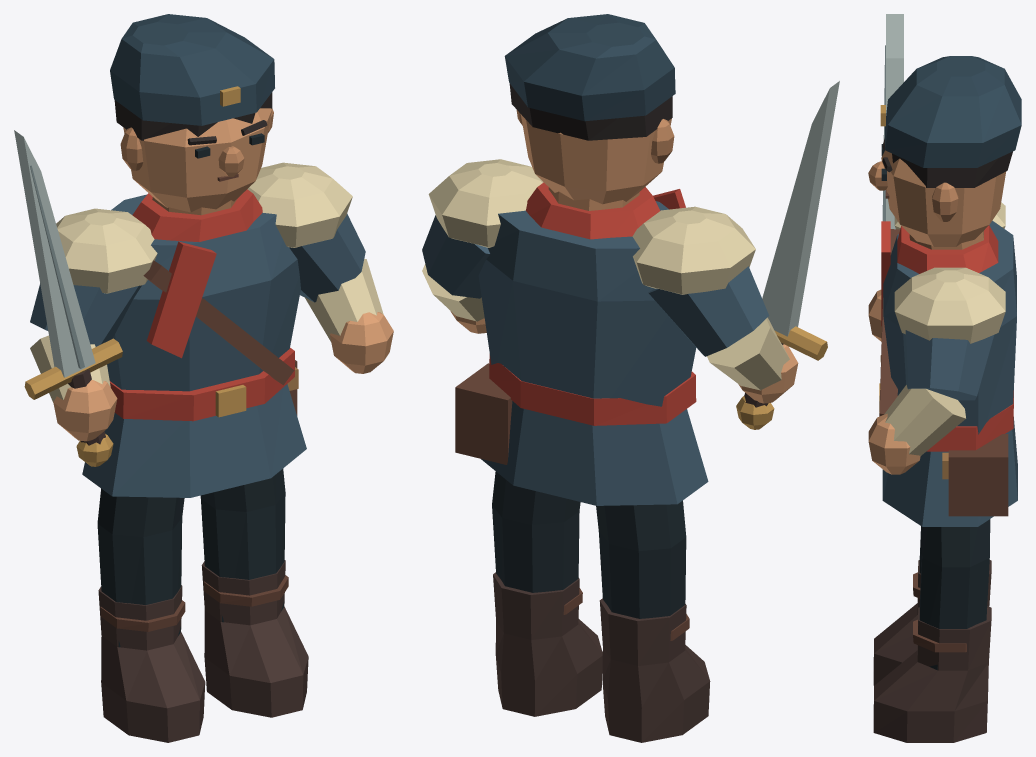
Rendered from hero-sword.glb.
3 views of the same model, side by side, from view 1: azimuth 30°, elevation 25°; view 2: azimuth 150°, elevation 25°; view 3: azimuth 270°, elevation 25° (orthographic). The views are drawn at different scales.
Visible parts, largest first — view 1: body, arm_r, arm_l; view 2: body, arm_r, arm_l; view 3: body, arm_l, arm_r.
Boxes of the visible parts, <box> form: body: <box>82,14,308,742</box>; arm_r: <box>14,130,157,466</box>; arm_l: <box>247,162,393,373</box>; body: <box>455,14,710,742</box>; arm_r: <box>632,81,839,429</box>; arm_l: <box>422,159,543,333</box>; body: <box>868,56,1021,742</box>; arm_l: <box>868,267,1005,474</box>; arm_r: <box>868,14,1005,361</box>.
Bounding box in the file's own units: 1.04 × 1.78 × 0.3987.
